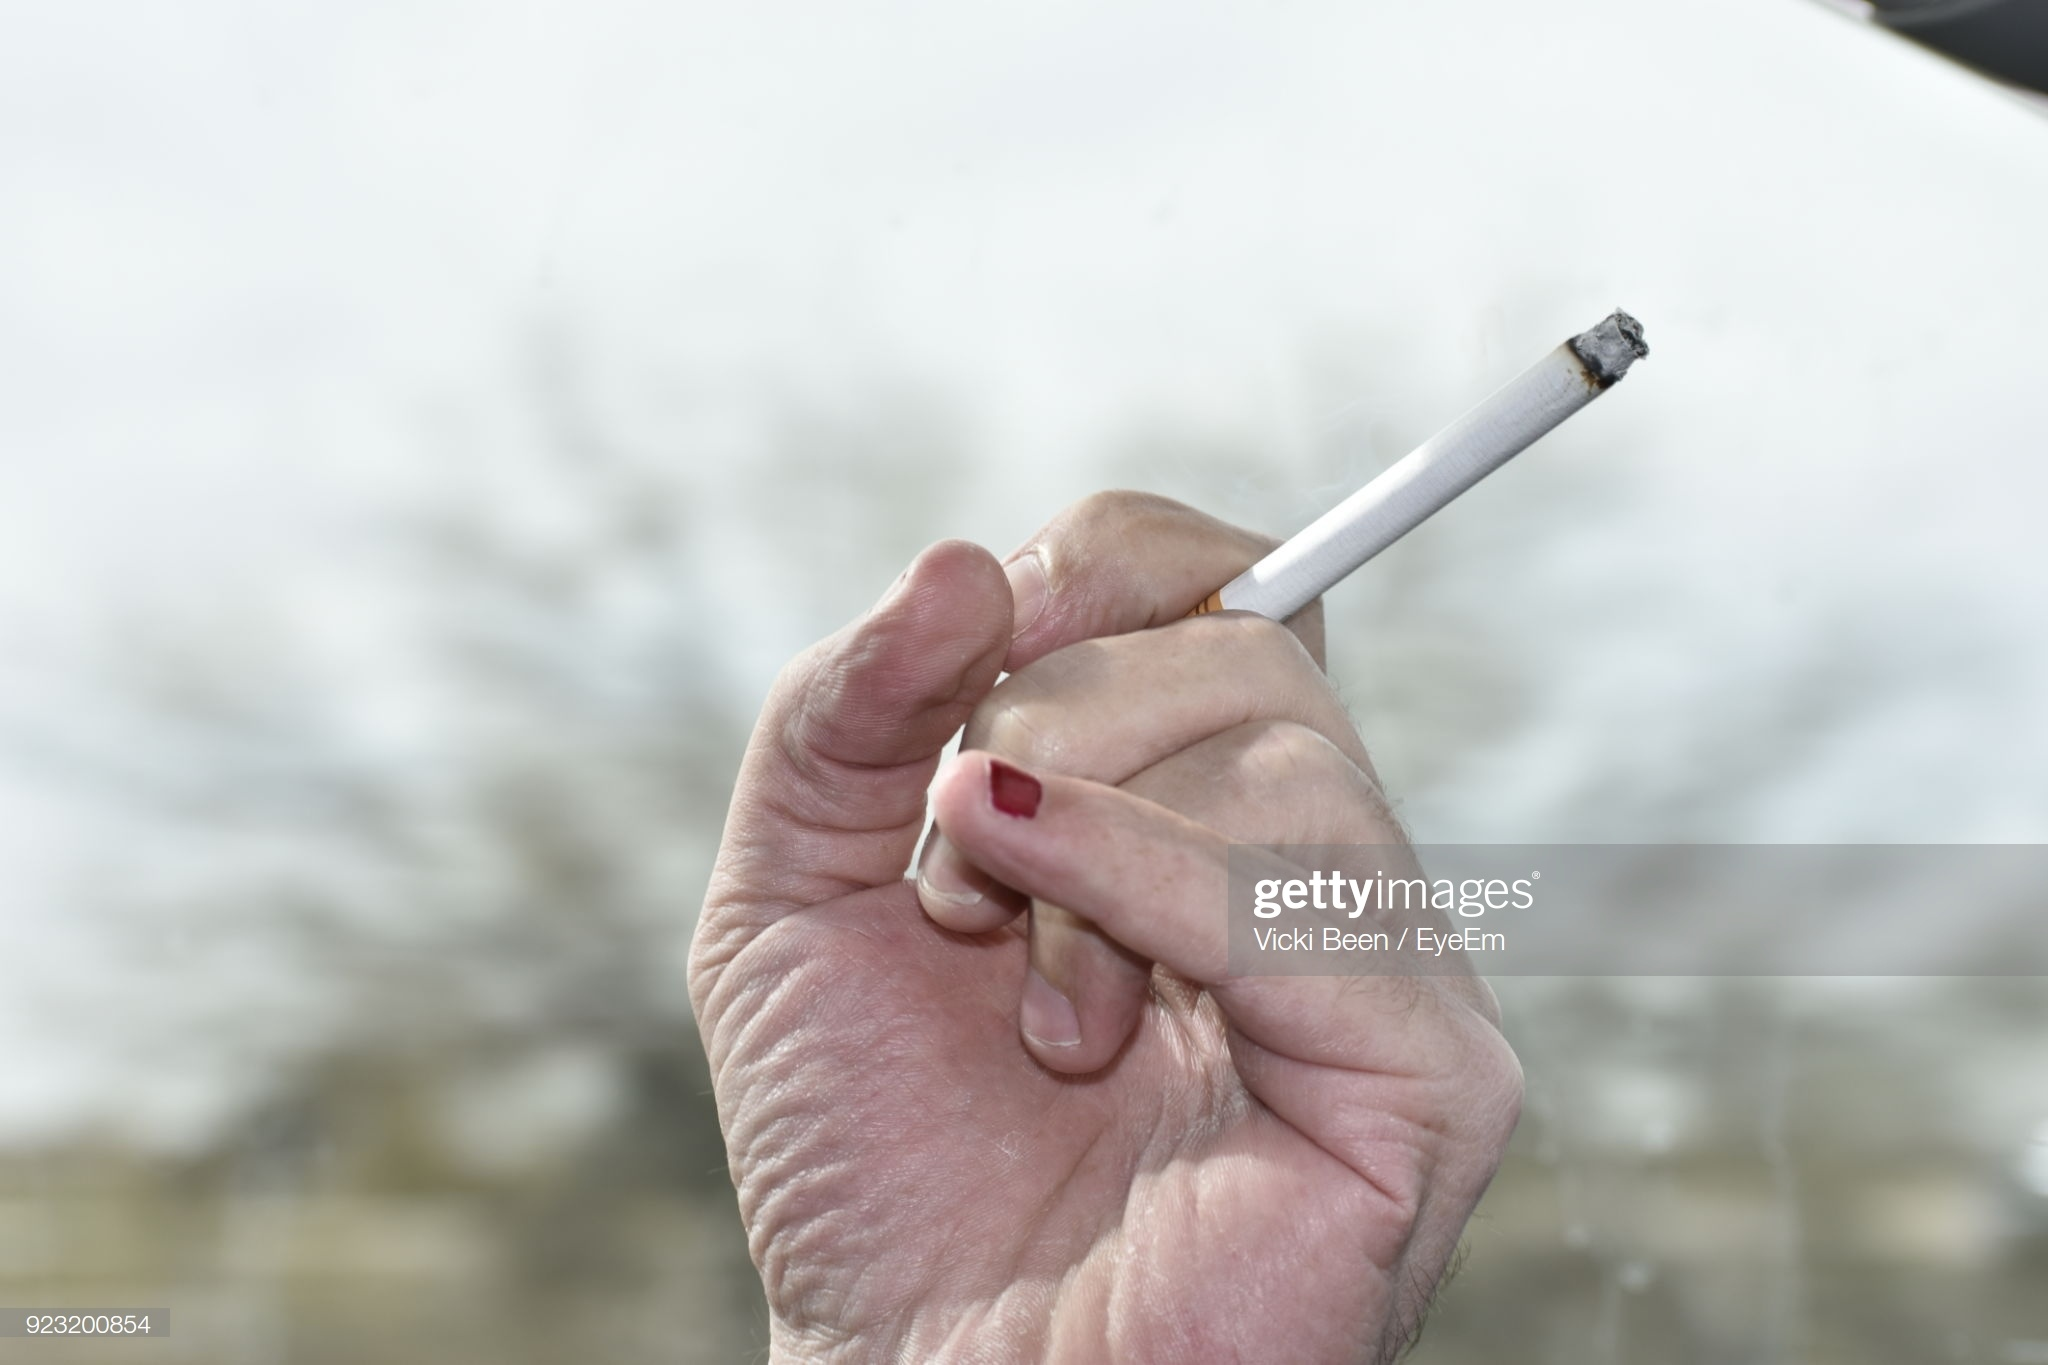sigaretta: (1189, 308, 1625, 654)
